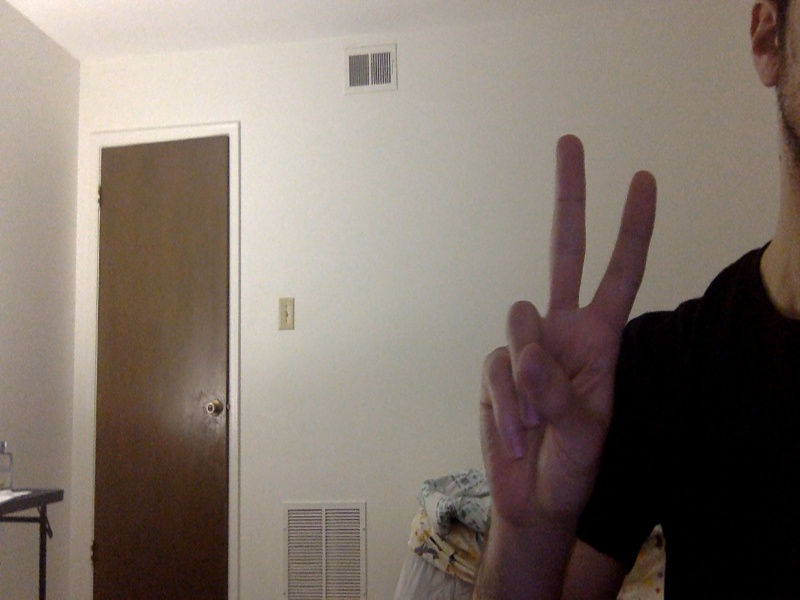2-hand: (474, 133, 662, 530)
